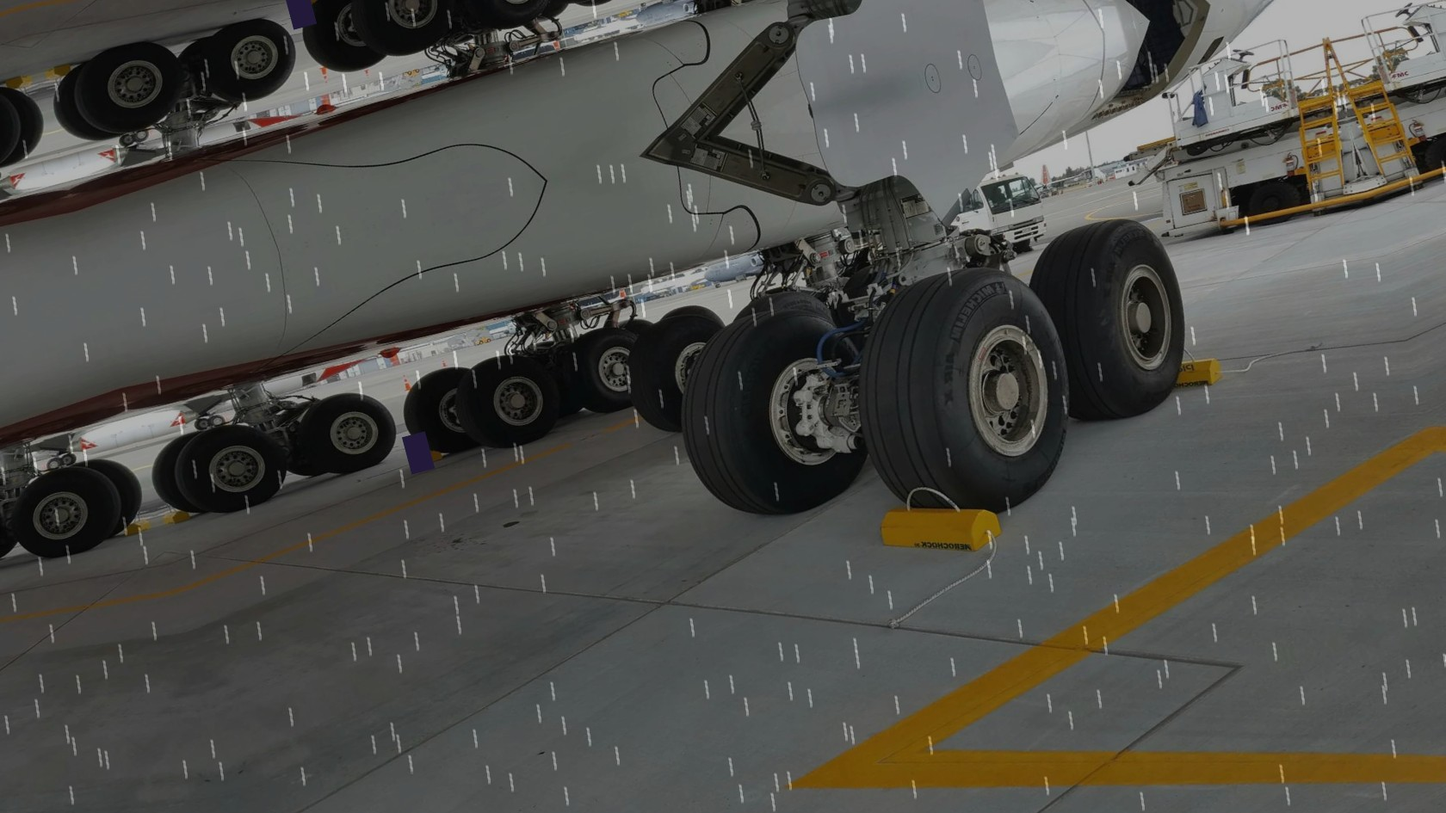chock: (872, 480, 1011, 572), (1122, 349, 1229, 407), (405, 445, 448, 471), (118, 516, 153, 540), (160, 505, 194, 529), (0, 71, 35, 94), (42, 60, 76, 83), (283, 0, 326, 12)
wheel: (823, 244, 1098, 536), (657, 284, 892, 536), (1010, 204, 1210, 434), (611, 296, 750, 439), (61, 31, 197, 145), (162, 411, 298, 524), (0, 454, 133, 568), (448, 342, 570, 459), (186, 9, 307, 114), (285, 380, 405, 485), (391, 359, 492, 465), (554, 319, 654, 422), (290, 0, 391, 85), (344, 0, 466, 66), (44, 59, 128, 152), (67, 447, 150, 540), (142, 427, 225, 520), (728, 279, 828, 341), (525, 333, 594, 422), (0, 79, 53, 172), (1238, 174, 1306, 232), (453, 0, 553, 39), (652, 297, 724, 343), (425, 0, 495, 47), (1420, 126, 1446, 184)
